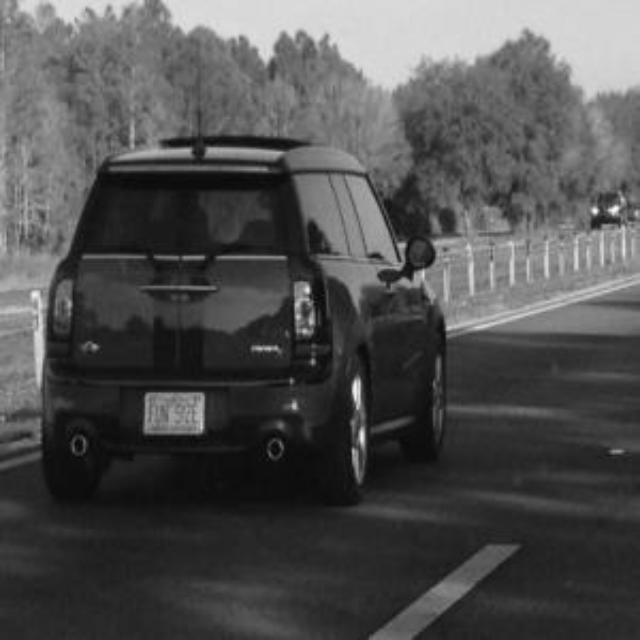License Plate: (143, 393, 204, 435)
